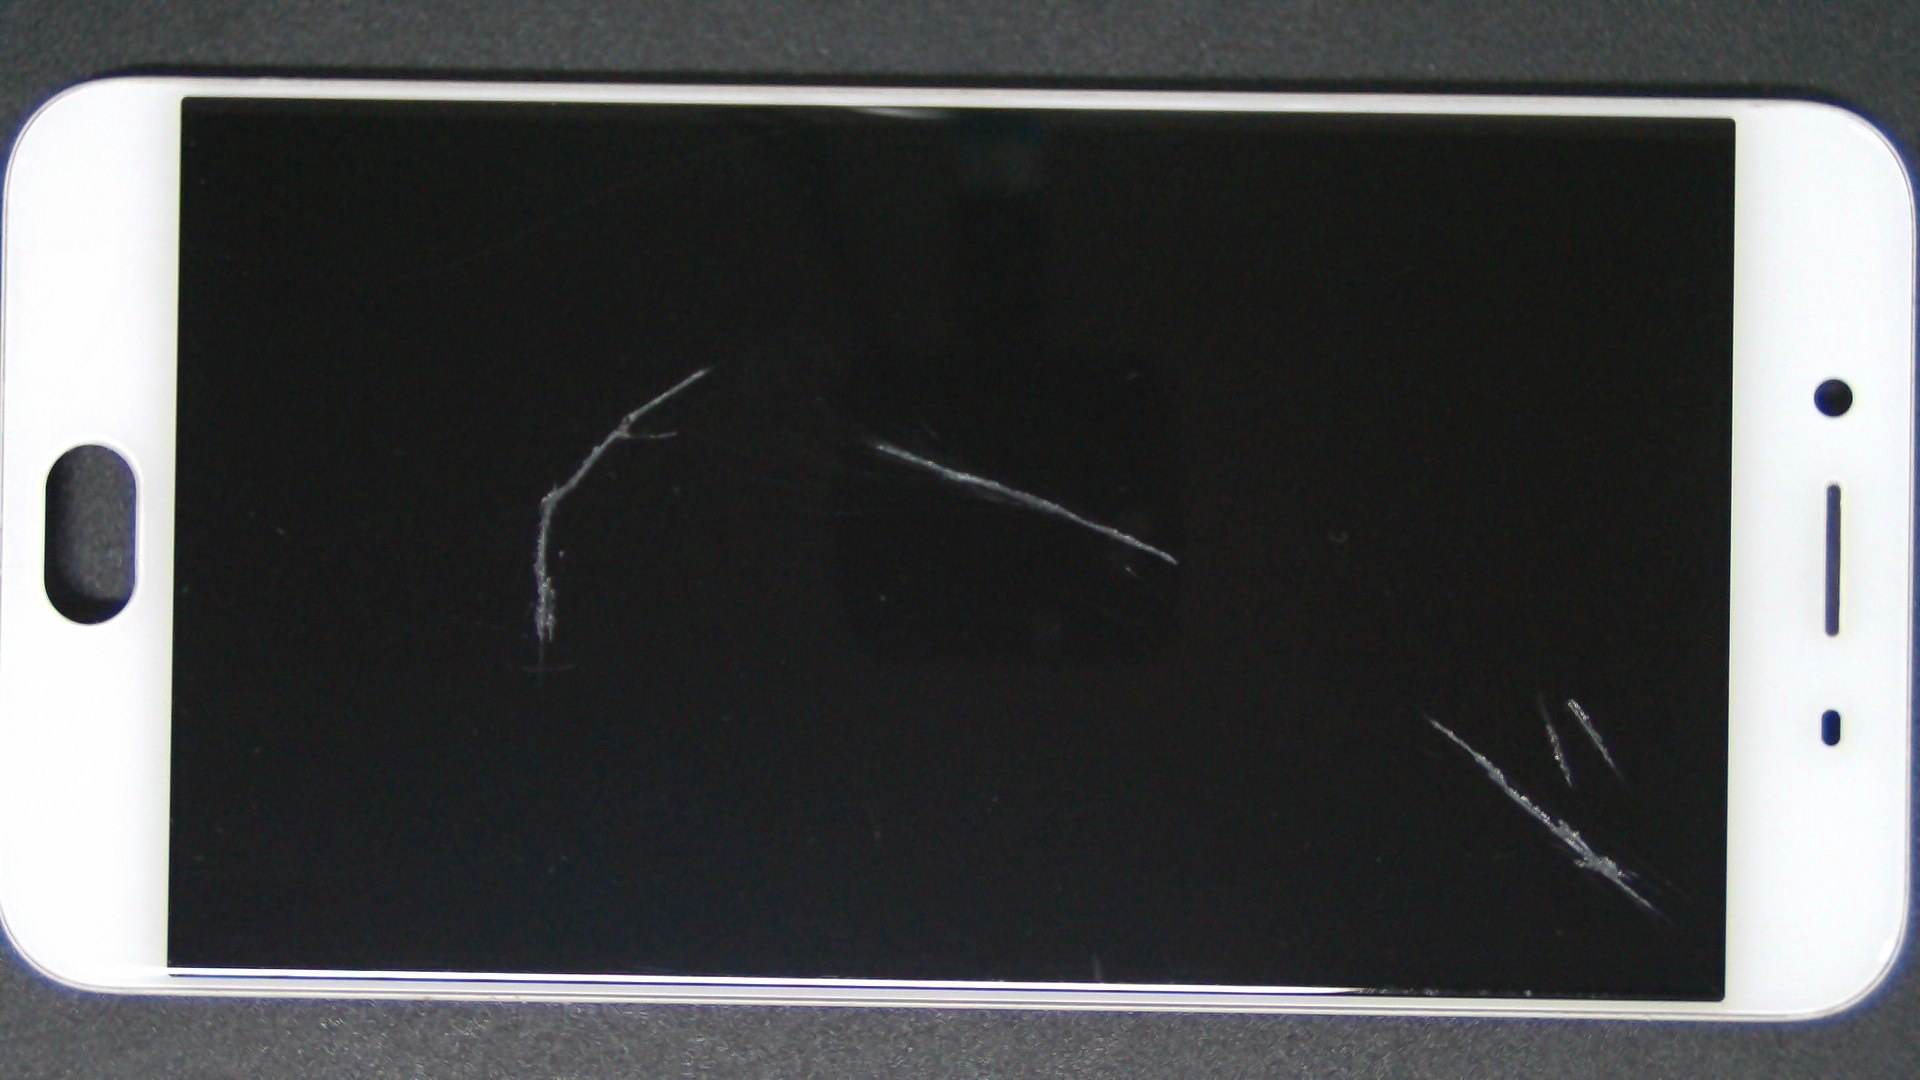oil: (713, 359, 1920, 1077), (774, 356, 1920, 1072), (785, 348, 1920, 1047), (442, 220, 1323, 663), (353, 182, 1059, 550)
